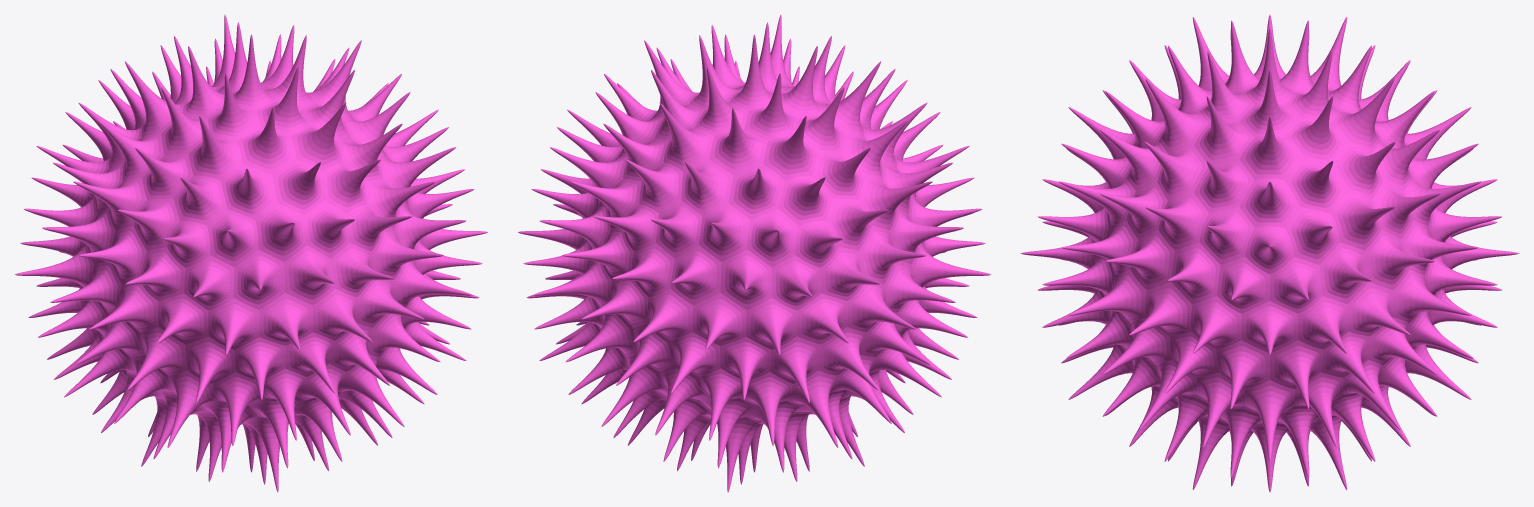
File: virus.fbx
3 views of the same model, side by side, from view 1: azimuth 30°, elevation 25°; view 2: azimuth 150°, elevation 25°; view 3: azimuth 270°, elevation 25° (orthographic). The views are drawn at different scales.
Visible parts, largest first — view 1: Icosphere; view 2: Icosphere; view 3: Icosphere.
Boxes of the visible parts, x1,y1,x2,y2 form: Icosphere: [15, 14, 487, 492]; Icosphere: [518, 14, 990, 492]; Icosphere: [1020, 14, 1519, 492].
Size of the model in its own units: 265 by 276 by 276.
